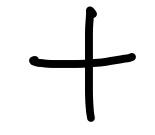plus: (29, 6, 136, 122)
